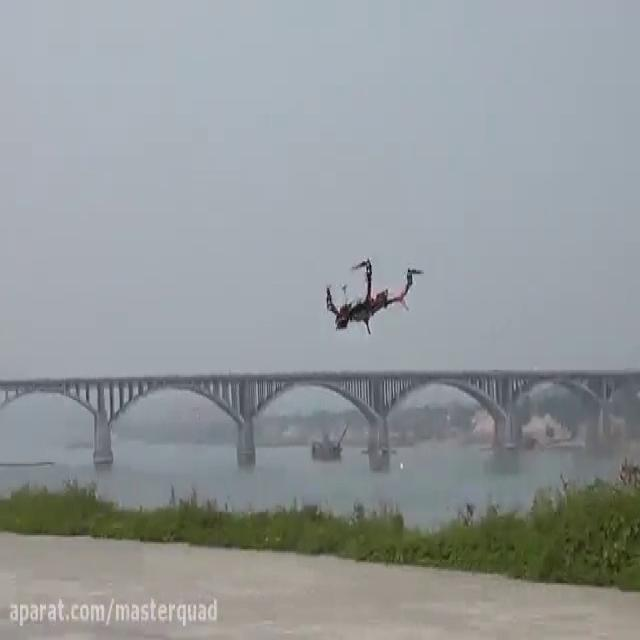drone: (321, 249, 426, 339)
